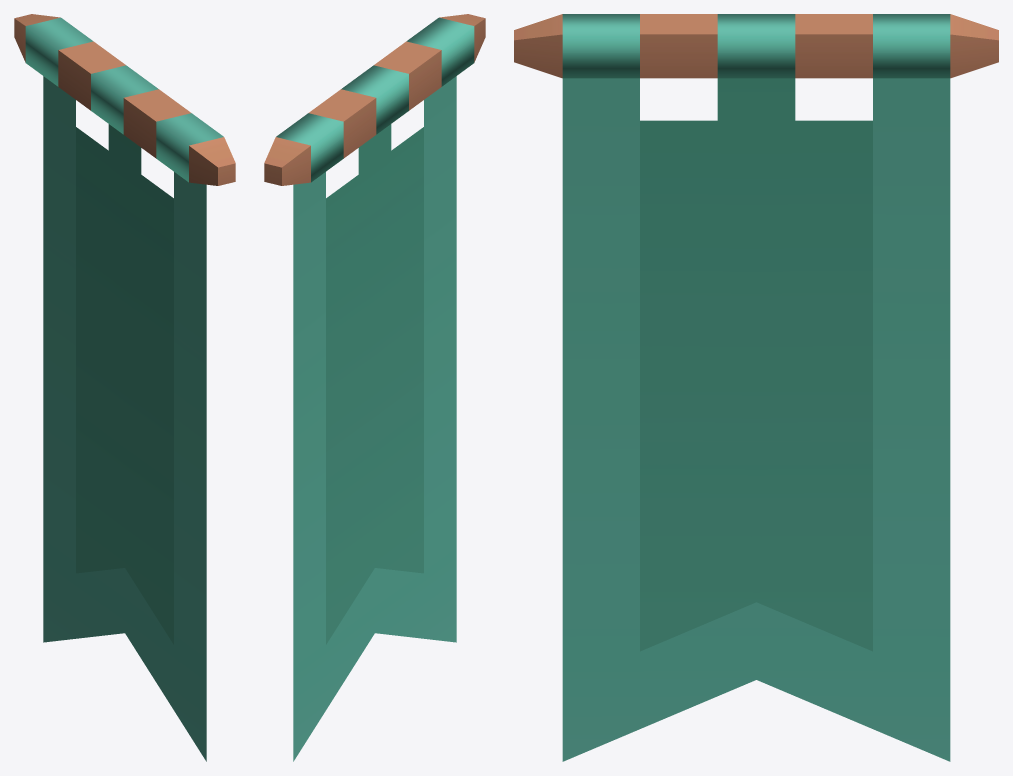
The model's file is k-fantasy-town-banner-green.glb.
3 renders of one model, left to right at view 1: azimuth 30°, elevation 25°; view 2: azimuth 150°, elevation 25°; view 3: azimuth 270°, elevation 25°, orthographic. The views are drawn at different scales.
Parts seen in each view (by area): view 1: banner-green; view 2: banner-green; view 3: banner-green.
Boxes of the visible parts, x1,y1,x2,y2 form: banner-green: (14,14,235,761); banner-green: (264,14,485,761); banner-green: (514,14,998,761).
Bounding box in the file's own units: 0.05 × 0.8394 × 0.5.
1 material, 1 textured.
